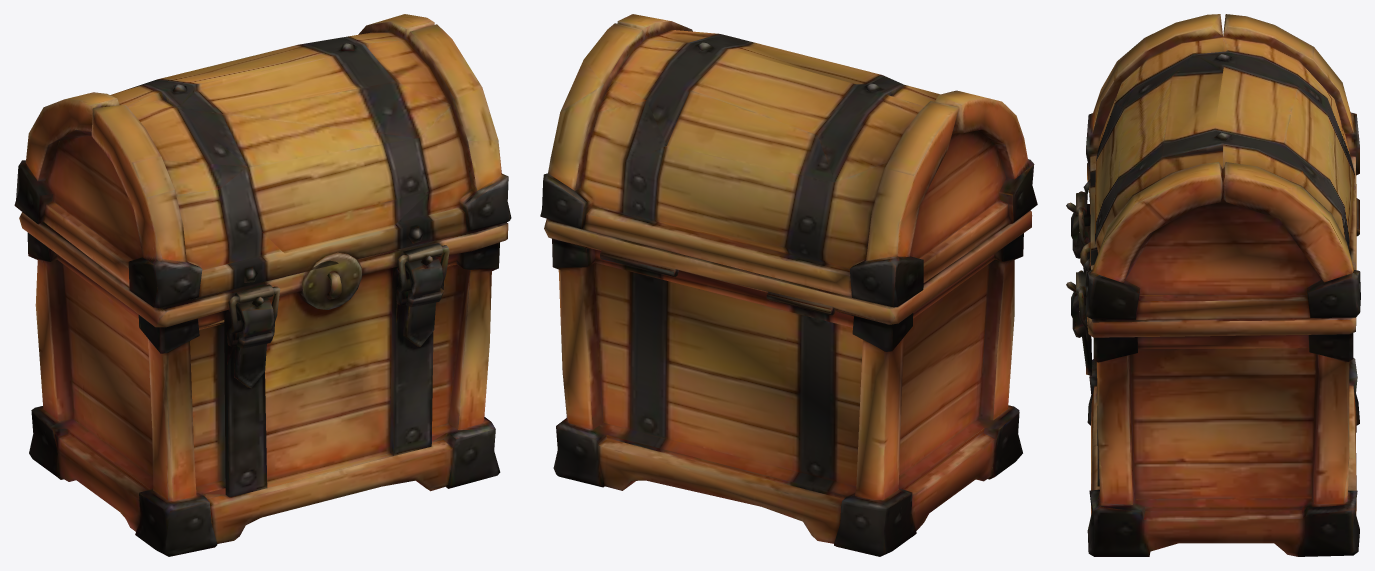
File: wyn_furn_small_storage_chest.glb
3 renders of one model, left to right at view 1: azimuth 30°, elevation 25°; view 2: azimuth 150°, elevation 25°; view 3: azimuth 270°, elevation 25°, orthographic. The views are drawn at different scales.
Visible parts, largest first — view 1: tripo_node_de5e1310-e9b6-481f-bf00-8fd8a12f1a3a; view 2: tripo_node_de5e1310-e9b6-481f-bf00-8fd8a12f1a3a; view 3: tripo_node_de5e1310-e9b6-481f-bf00-8fd8a12f1a3a.
Boxes of the visible parts, x1,y1,x2,y2 form: tripo_node_de5e1310-e9b6-481f-bf00-8fd8a12f1a3a: (14, 14, 511, 556); tripo_node_de5e1310-e9b6-481f-bf00-8fd8a12f1a3a: (540, 14, 1037, 556); tripo_node_de5e1310-e9b6-481f-bf00-8fd8a12f1a3a: (1066, 14, 1360, 556).
Size of the model in its own units: 0.7001 by 0.75 by 0.5181.
1 material, 1 textured.
